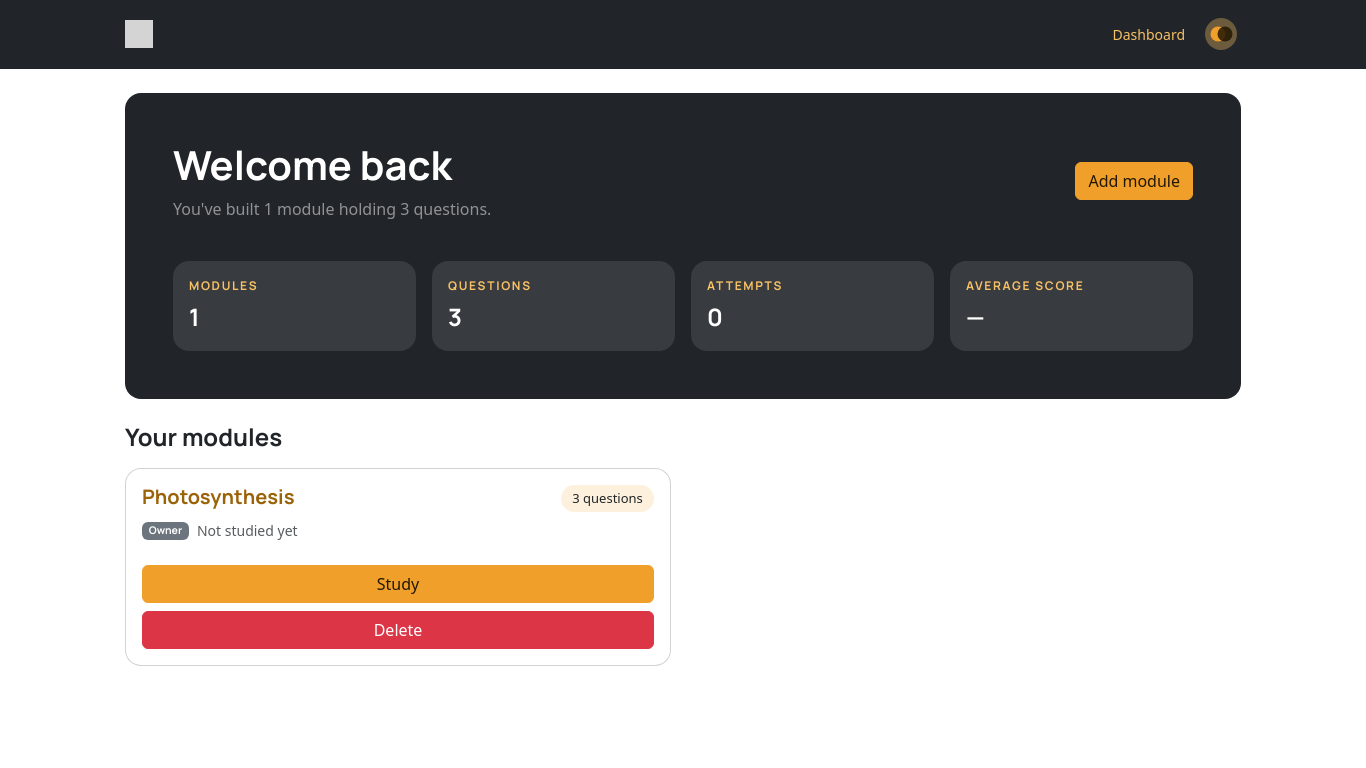
Test case: study mode selection › closes without navigating when cancelled
What coordinates should you click on to do the following:
click the button with aria-label "Study Photosynthesis"
I would click on:
 (398, 584)
Its box is [142,565,654,603].
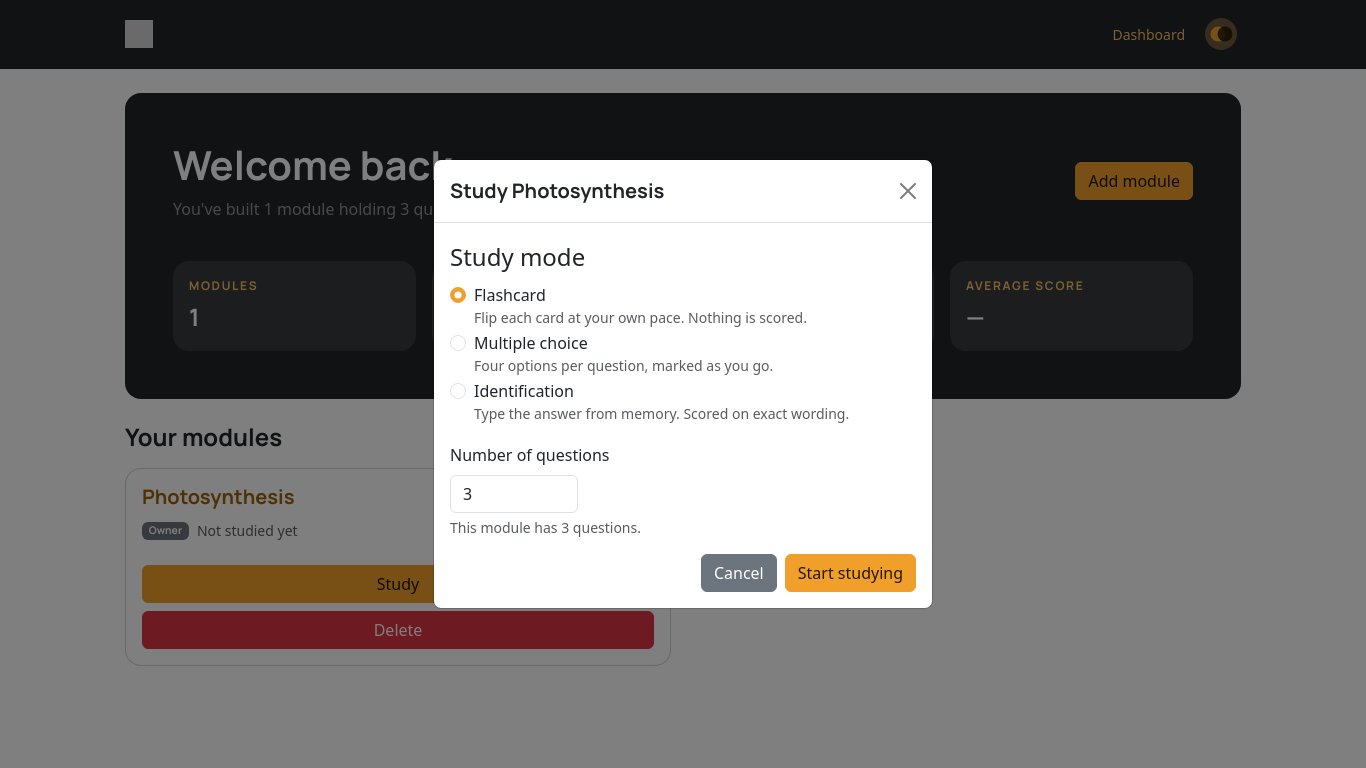
What coordinates should you click on to do the following:
click the button "Cancel"
I would click on:
 (739, 573)
Its box is [701,554,777,592].
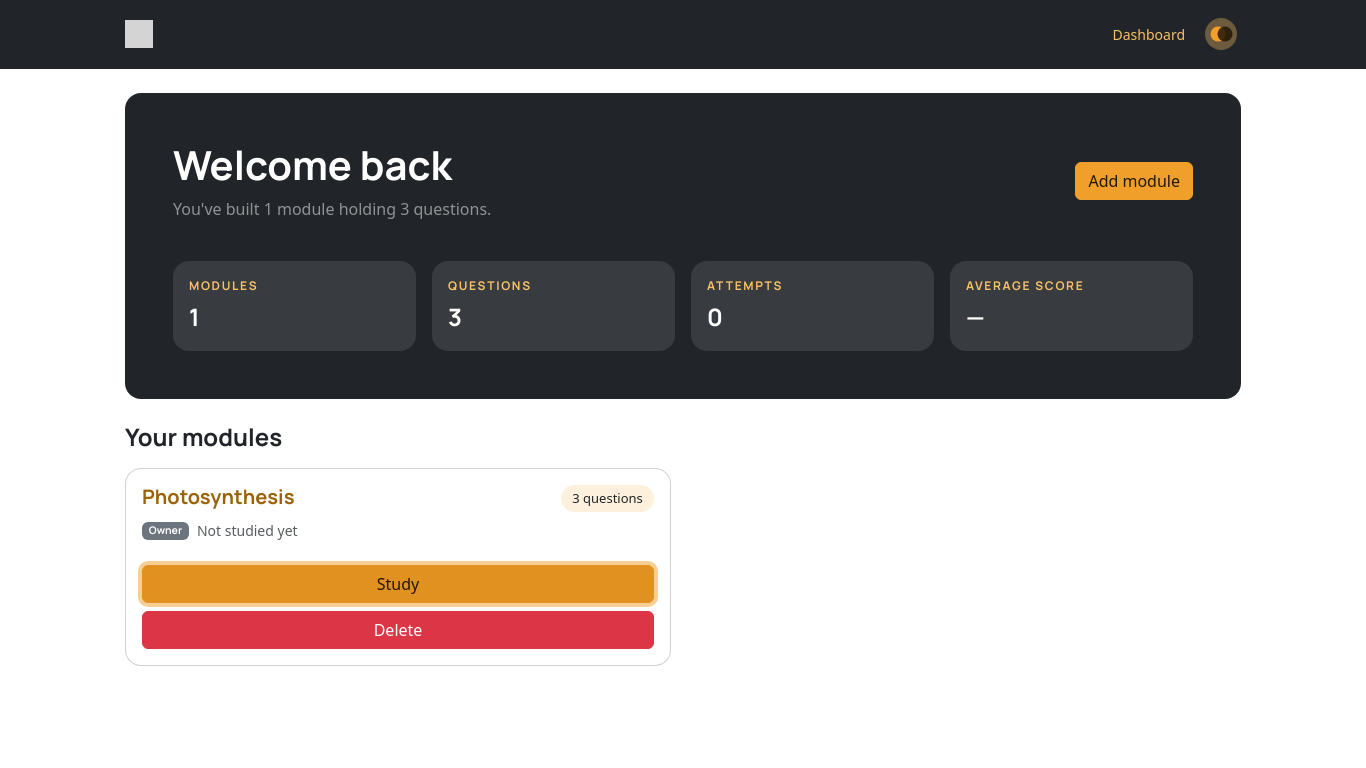
Check: the heading "Study Photosynthesis" is gone
